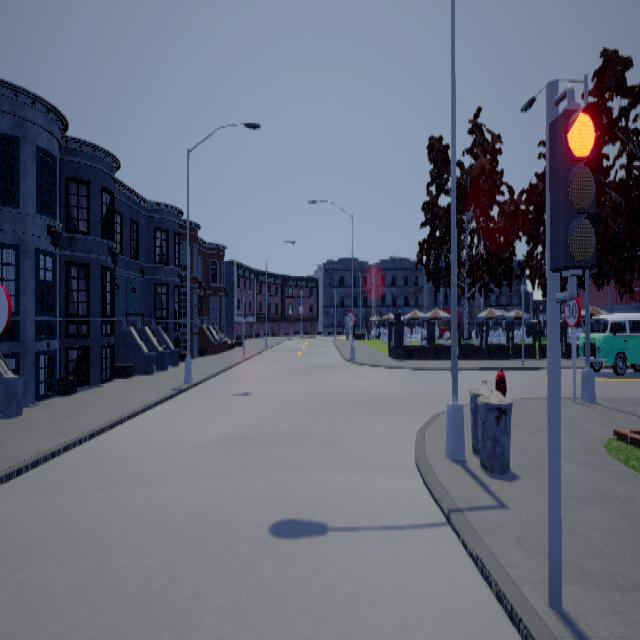red_light: (548, 83, 603, 325)
traffic_sign: (561, 290, 581, 328), (0, 283, 11, 333), (346, 310, 354, 323)
vehicle: (579, 312, 639, 376)
